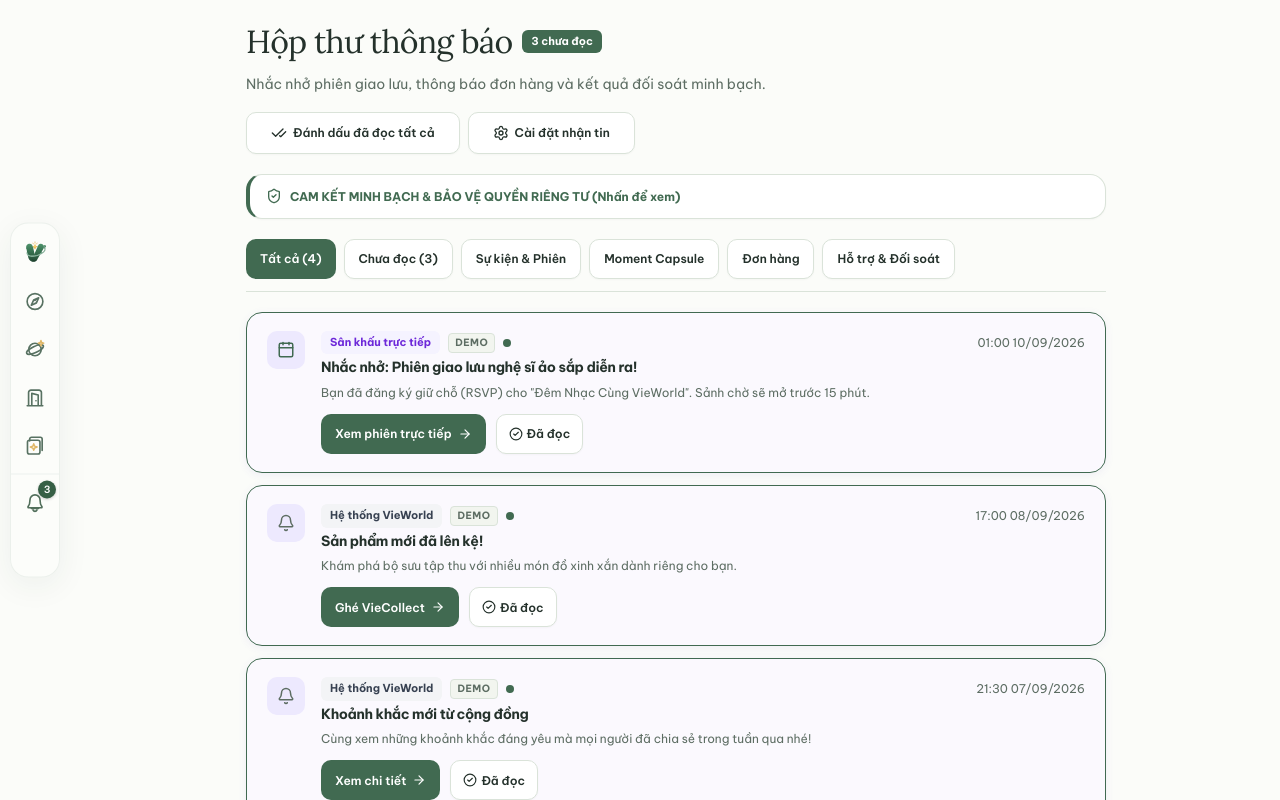
Scenario: T10 Acceptance: Notifications, Inbox, and Read States › 2. UI Integration, Attribution Truthfulness & End-to-End Journeys › clicking a notification action button marks it as read and navigates to target object
The width and height of the screenshot is (1280, 800).
# Click "Đi tới đối tượng" for dropin session notification
Click the button with test id "notif-action-btn-notif-rsvp-dropin": (403, 434) left=321, top=414, right=486, bottom=454
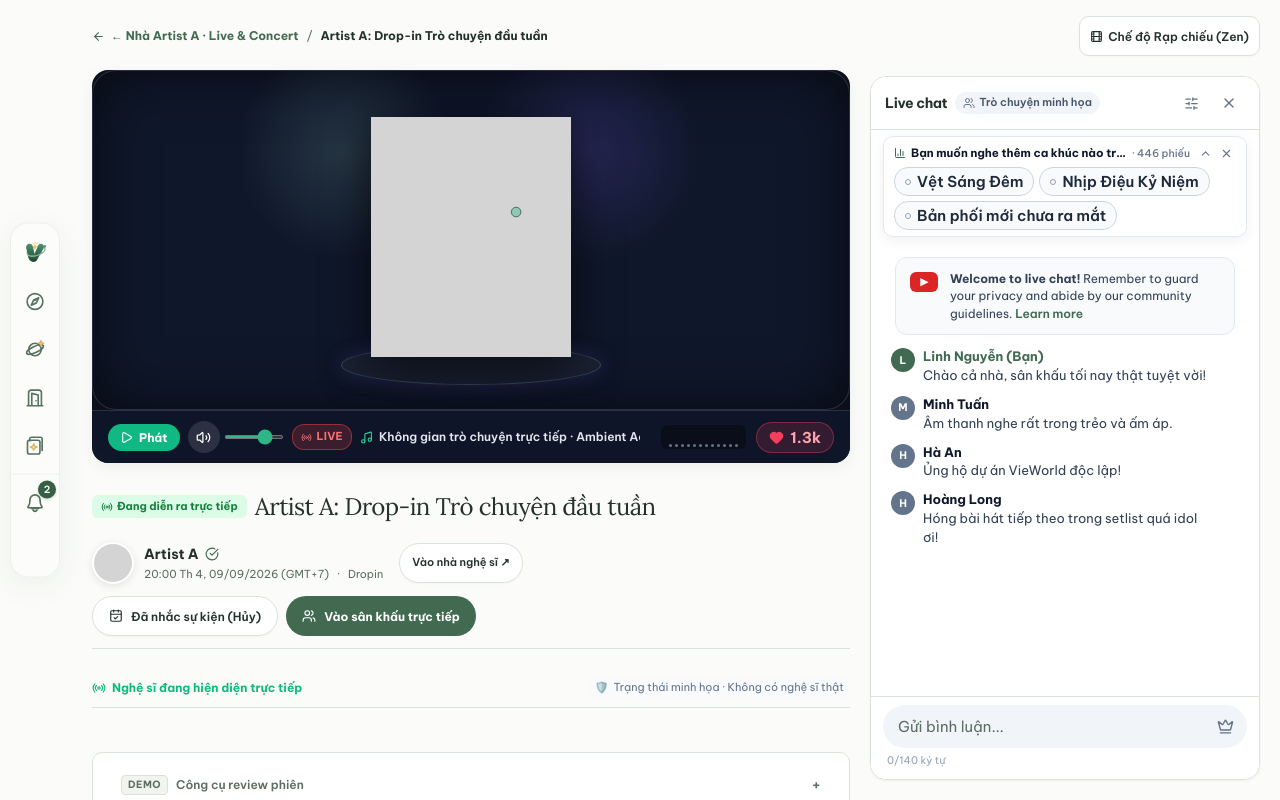
Now the heading "Artist A: Drop-in Trò chuyện đầu tuần" is shown, box left=255, top=491, right=656, bottom=522
